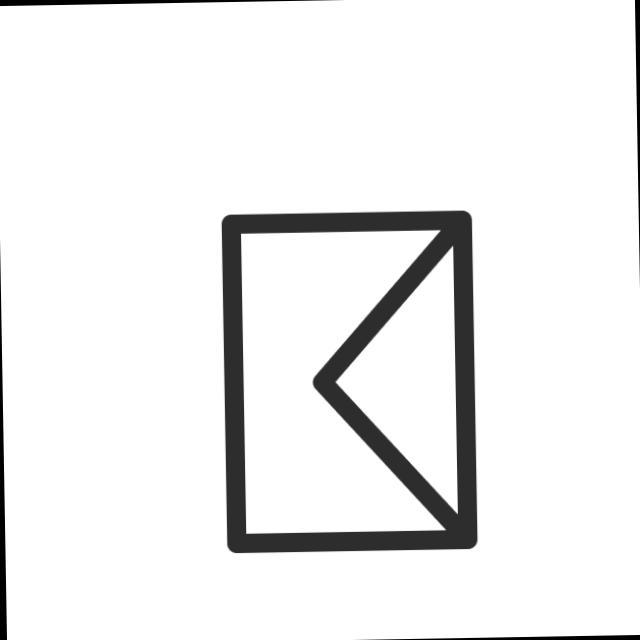letter: (217, 204, 481, 554)
